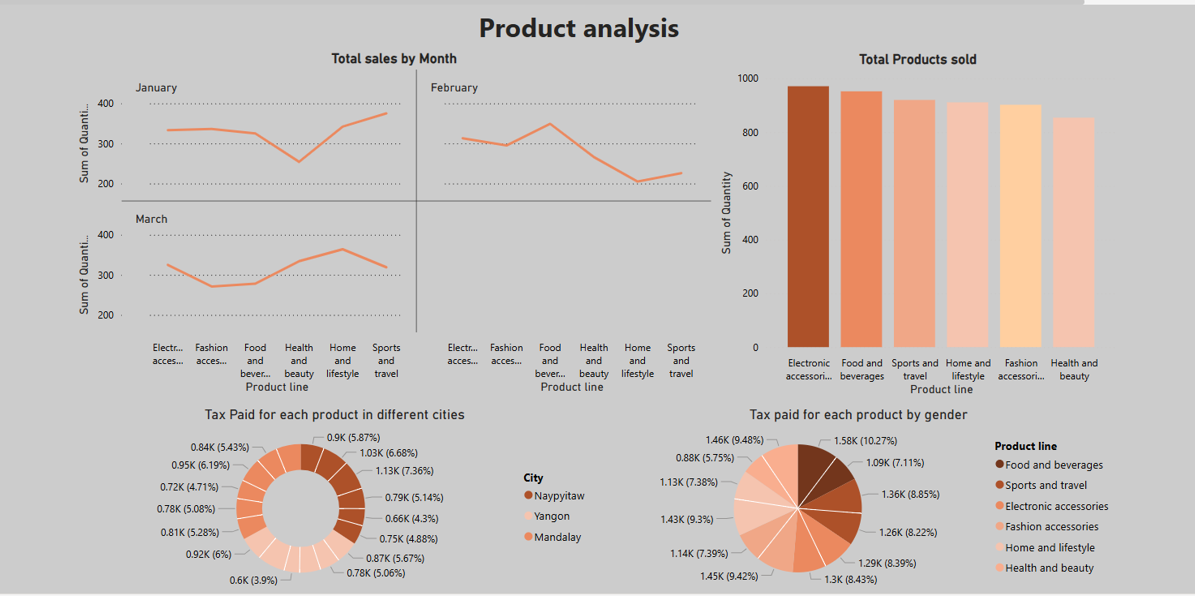

What the dashboard file says about the page in this screenshot:
{"tool":"powerbi","page":{"name":"product analysis","canvas":[1280,720],"ordinal":0},"visuals":[{"type":"lineChart","title":"Total sales by Month","fields":{"Category":["WalmartSalesData csv.Product line"],"Y":["Sum(WalmartSalesData csv.Quantity)"],"Rows":["WalmartSalesData csv.Date.Variation.Date Hierarchy.Month"]},"box":[0,55.1,785.3,425.9],"z":0},{"type":"textbox","box":[490.6,0,294.7,55.1],"z":1000},{"type":"columnChart","title":"Total Products sold","fields":{"Category":["WalmartSalesData csv.Product line"],"Y":["Sum(WalmartSalesData csv.Quantity)"]},"box":[785.3,56.7,495.5,425.9],"z":2000},{"type":"donutChart","title":"Tax Paid for each product in different cities","fields":{"Series":["WalmartSalesData csv.Product line"],"Category":["WalmartSalesData csv.City"],"Y":["Sum(WalmartSalesData csv.Tax 5%)"]},"box":[0,490.6,639.6,229.9],"z":3000},{"type":"pieChart","title":"Tax paid for each product by gender","fields":{"Category":["WalmartSalesData csv.Product line"],"Y":["Sum(WalmartSalesData csv.Tax 5%)"],"Series":["WalmartSalesData csv.Gender"]},"box":[639.6,490.6,641.2,229.9],"z":4000}]}

Visuals, with their boxes on the page's 1280x720 design canvas (x1, y1, x2, y2). These are canvas units, not pixel positions in the 1195x596 screenshot, which may show the page scaled, cropped or inside an application window:
"Total sales by Month" lineChart: x1=0, y1=55, x2=785, y2=481
textbox: x1=491, y1=0, x2=785, y2=55
"Total Products sold" columnChart: x1=785, y1=57, x2=1281, y2=483
"Tax Paid for each product in different cities" donutChart: x1=0, y1=491, x2=640, y2=720
"Tax paid for each product by gender" pieChart: x1=640, y1=491, x2=1281, y2=720
